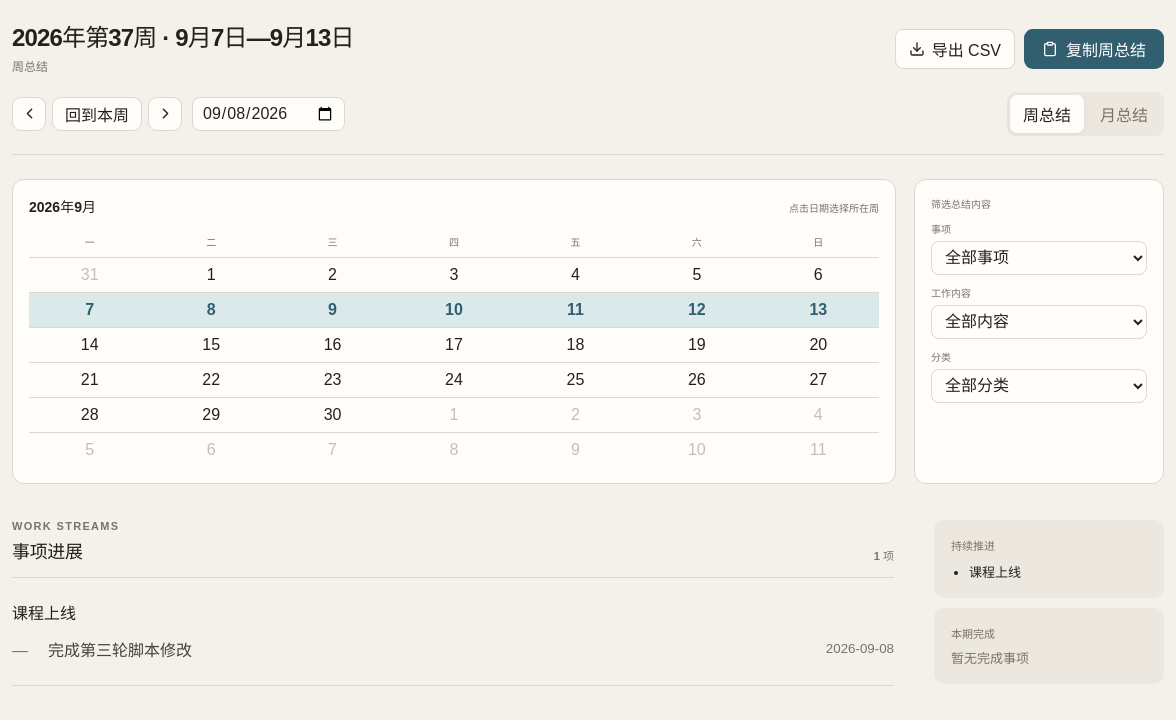
work summaries › selects an unambiguous week from the summary calendar
Click the button named "选择 2026-09-16": [332, 344] box [272,327,393,362]
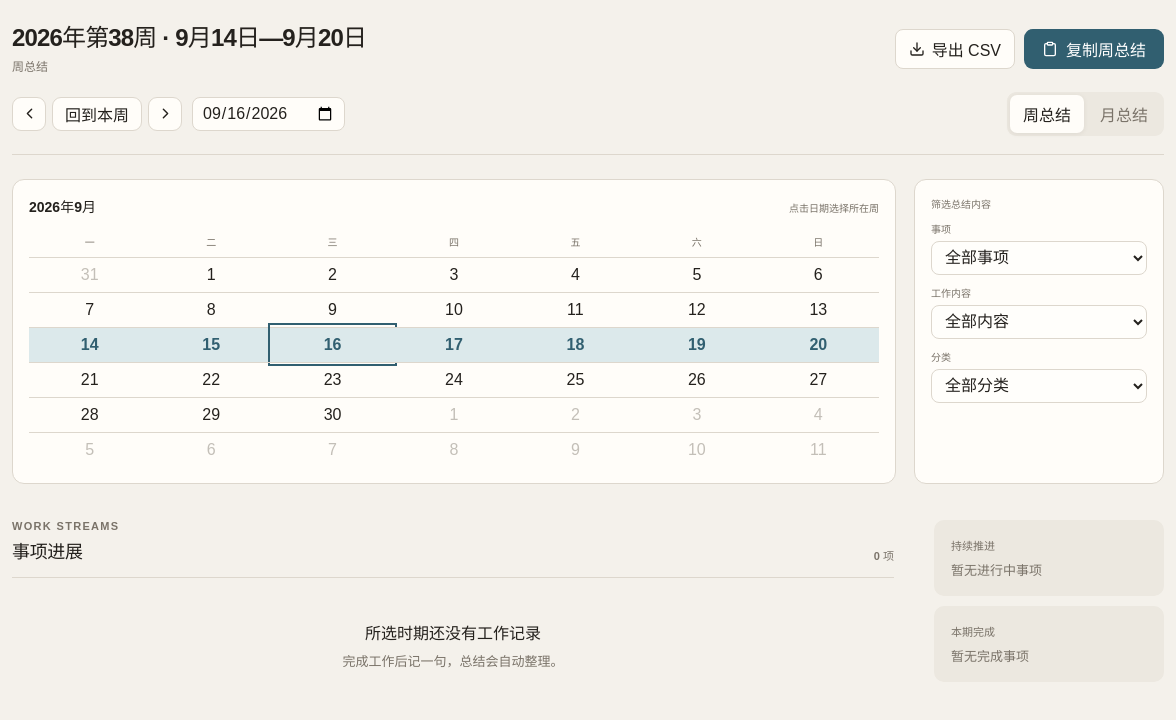
Expected: the heading "2026年第38周 · 9月14日—9月20日" is shown, [12,24,366,53]
